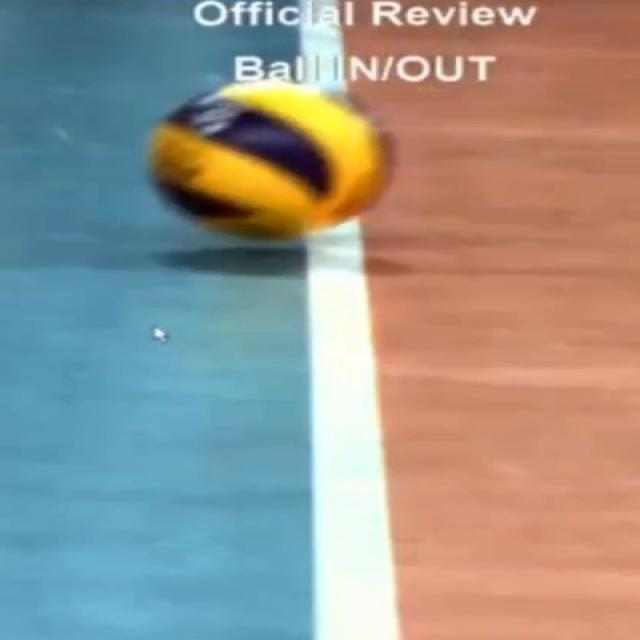Volleyball: (152, 81, 392, 240)
